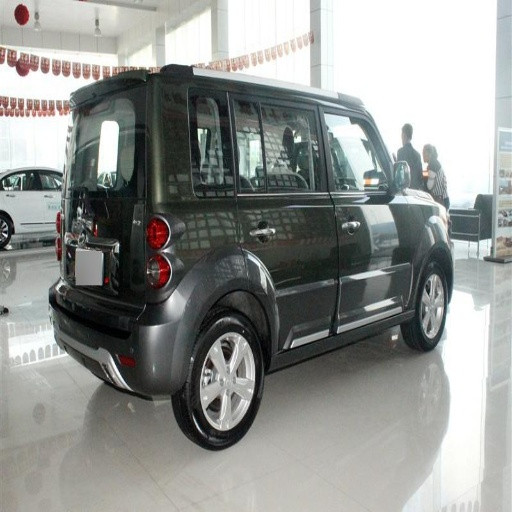back_right_door: (233, 89, 339, 347)
trunk: (72, 216, 146, 294)
